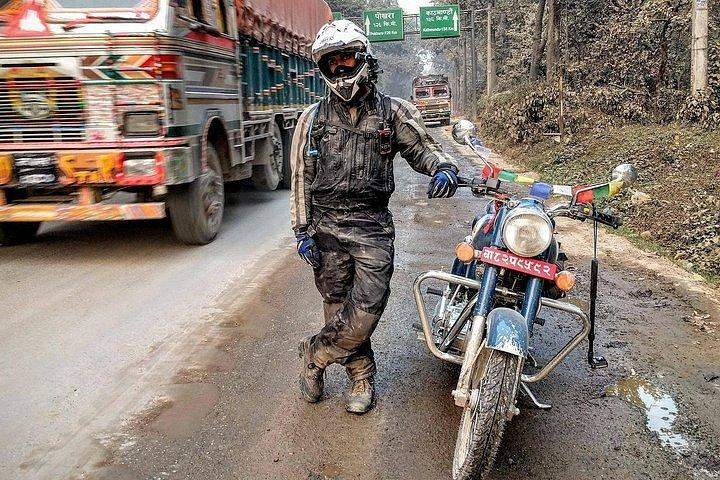bike: (411, 116, 645, 480)
